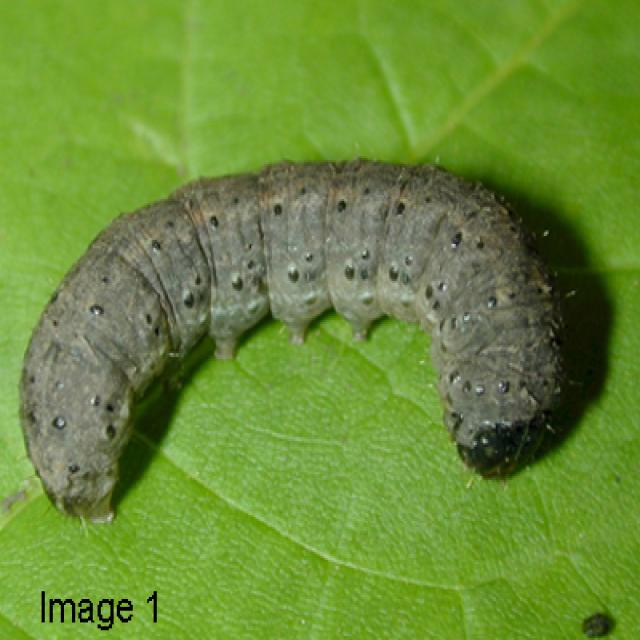worm: (17, 153, 569, 534)
